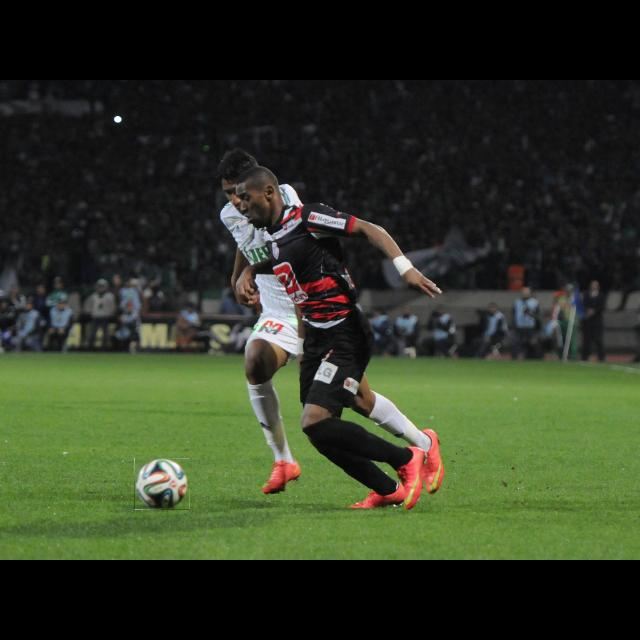Football: (134, 458, 190, 510)
